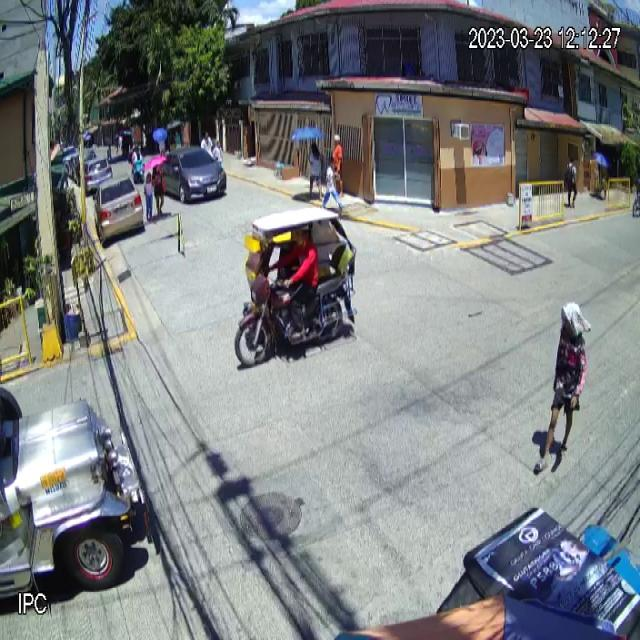Car: (154, 146, 227, 205)
Tricycle: (234, 206, 357, 370)
